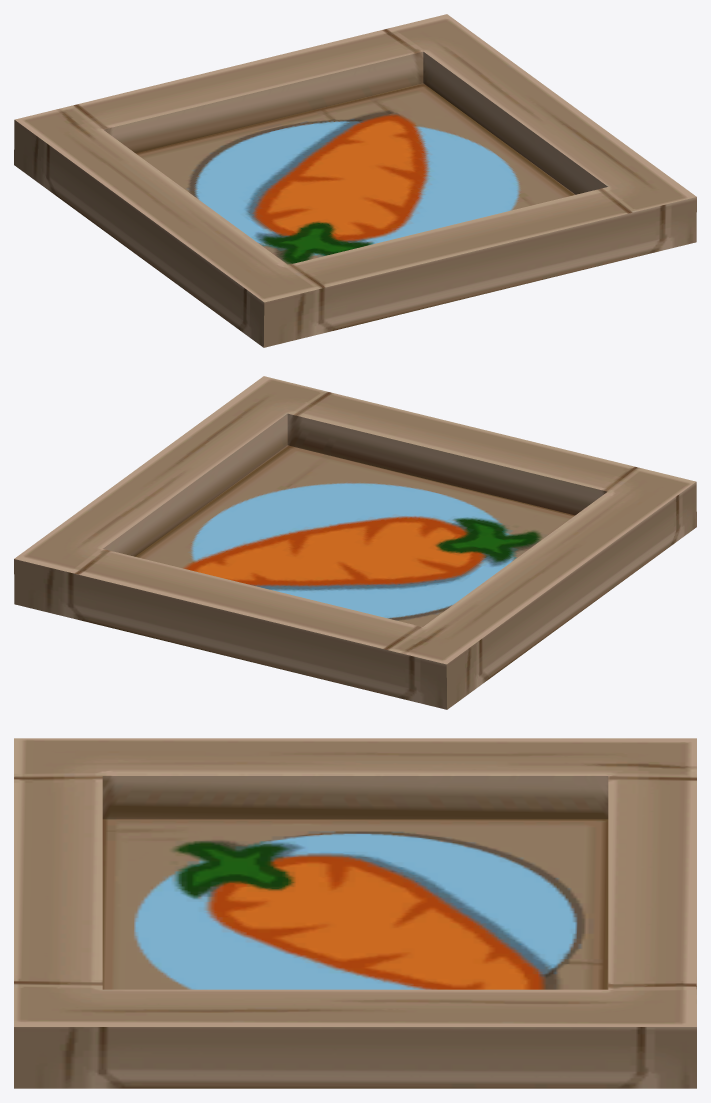
Rendered from CrateLid_carrot.obj.
3 renders of one model, top to bottom at view 1: azimuth 30°, elevation 25°; view 2: azimuth 150°, elevation 25°; view 3: azimuth 270°, elevation 25°, orthographic. The views are drawn at different scales.
Parts seen in each view (by area): view 1: CrateLid_mesh-sharedassets2.assets-136; view 2: CrateLid_mesh-sharedassets2.assets-136; view 3: CrateLid_mesh-sharedassets2.assets-136.
Part boxes in pixels (x1,y1,x2,y2): CrateLid_mesh-sharedassets2.assets-136: (14, 14, 696, 347); CrateLid_mesh-sharedassets2.assets-136: (14, 376, 696, 709); CrateLid_mesh-sharedassets2.assets-136: (14, 738, 696, 1088).
Bounding box in the file's own units: 1 × 0.1 × 1.
